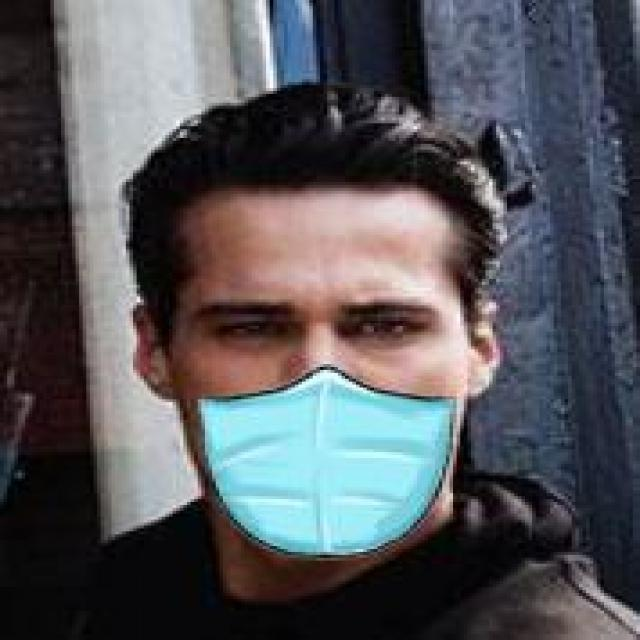mask: (101, 41, 561, 549)
